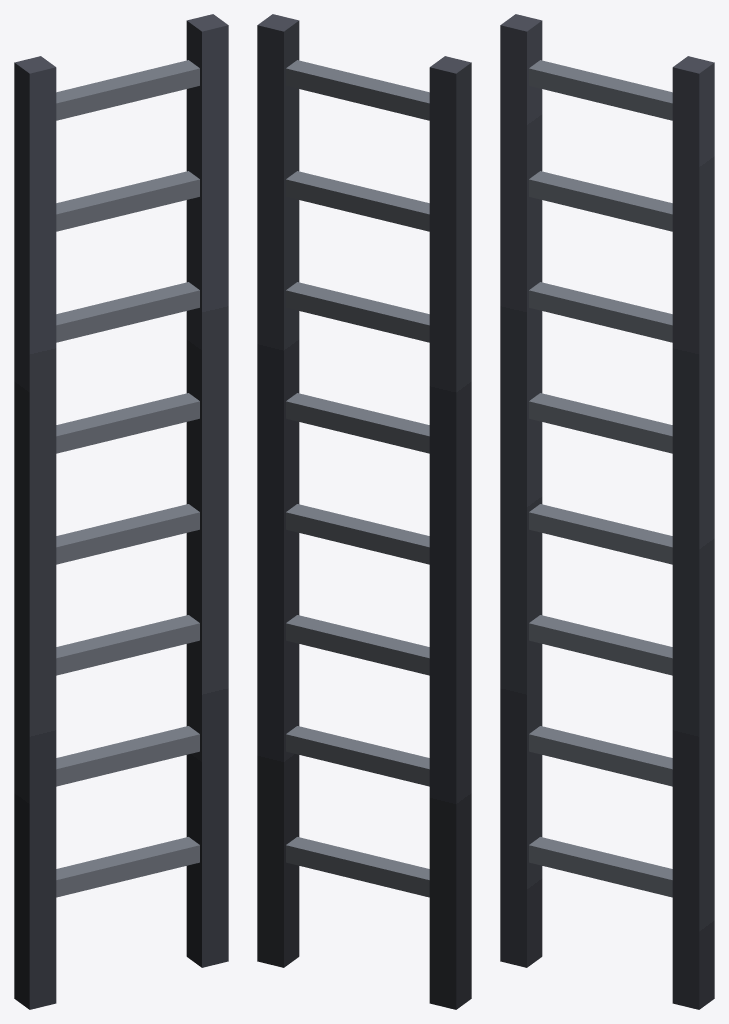
The model's file is model_47_iron.glb.
3 views of the same model, side by side, from view 1: azimuth 30°, elevation 25°; view 2: azimuth 150°, elevation 25°; view 3: azimuth 330°, elevation 25° (orthographic).
Bounding box in the file's own units: 0.6 × 2.7 × 0.08.
Materials: 1 (1 with a texture image).
